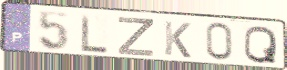0: (204, 21, 235, 63)
5: (35, 11, 72, 53)
K: (163, 20, 193, 60)
L: (79, 13, 110, 54)
Q: (242, 24, 279, 65)
Z: (117, 16, 156, 58)
